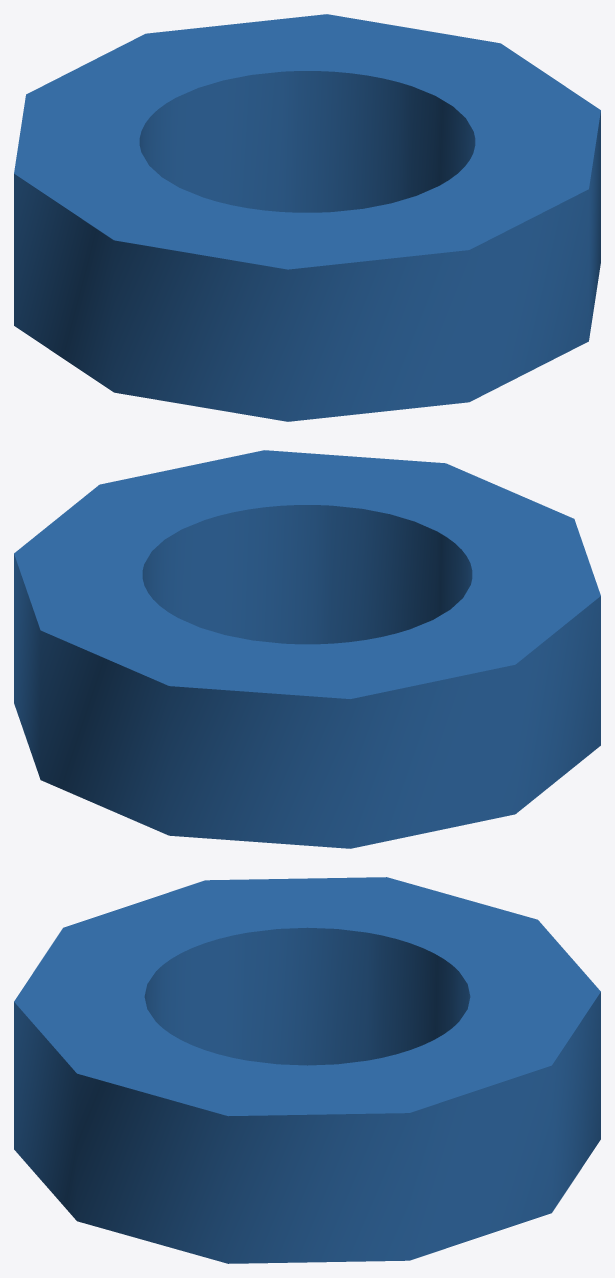
File: portatovaglioli_estruso.glb
The picture shows the model from 3 angles, top to bottom: view 1: azimuth 30°, elevation 25°; view 2: azimuth 150°, elevation 25°; view 3: azimuth 270°, elevation 25°; orthographic projection. The views are drawn at different scales.
Parts seen in each view (by area): view 1: Object_2; view 2: Object_2; view 3: Object_2.
Boxes of the visible parts, bbox=[...] form: Object_2: bbox=[14, 14, 600, 421]; Object_2: bbox=[14, 450, 600, 848]; Object_2: bbox=[14, 877, 600, 1263].
Size of the model in its own units: 6.94 by 2 by 7.21.
